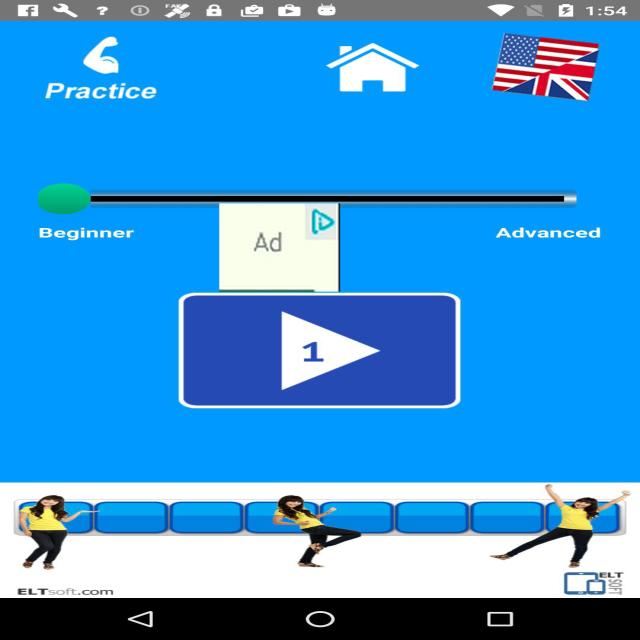sneaking: (219, 203, 340, 292)
